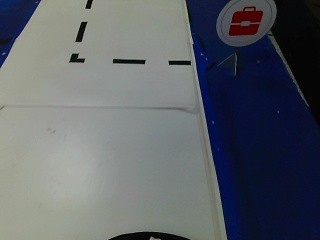company: (212, 0, 275, 46)
